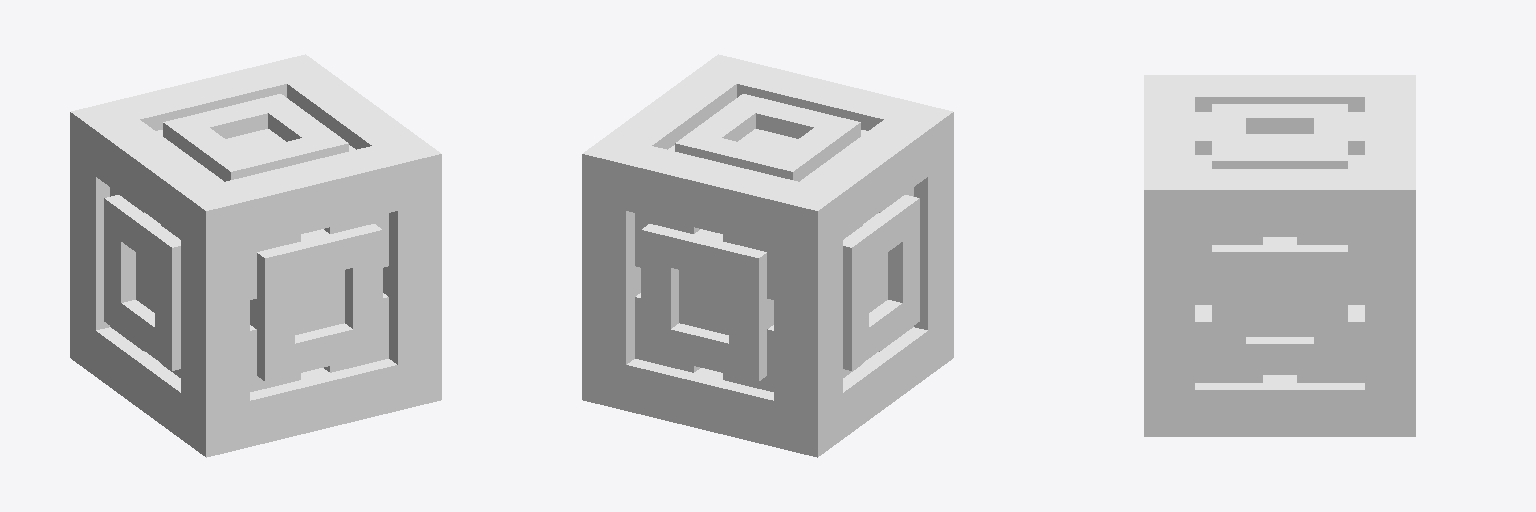
The model's file is gameCube_16scale.obj.
3 views of the same model, side by side, from view 1: azimuth 30°, elevation 25°; view 2: azimuth 150°, elevation 25°; view 3: azimuth 270°, elevation 25° (orthographic).
Size of the model in its own units: 16 by 16 by 16.